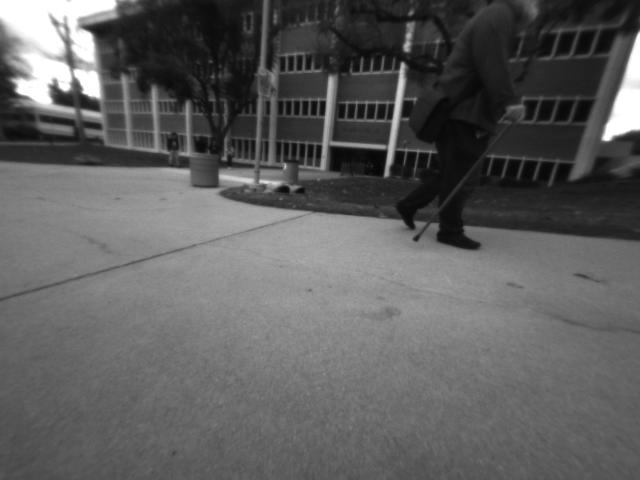trashcan: (186, 147, 224, 190), (278, 156, 303, 185)
